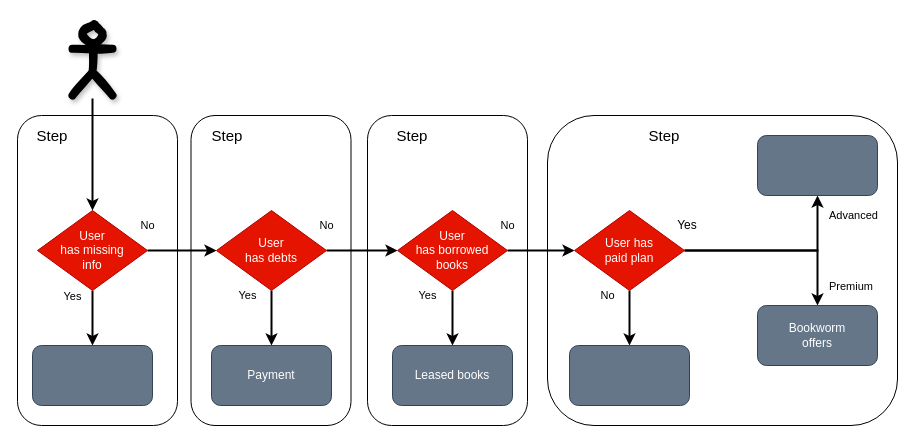
This 915x443 diagram has some shape labels left out. The shapes that lost their labels are listed below. From the top down, each one's centre as x and y in pixels, then its label:
At (x=817, y=165): "Prestige offers".
At (x=92, y=375): "User profile".
At (x=629, y=375): "Mainstream offers".
